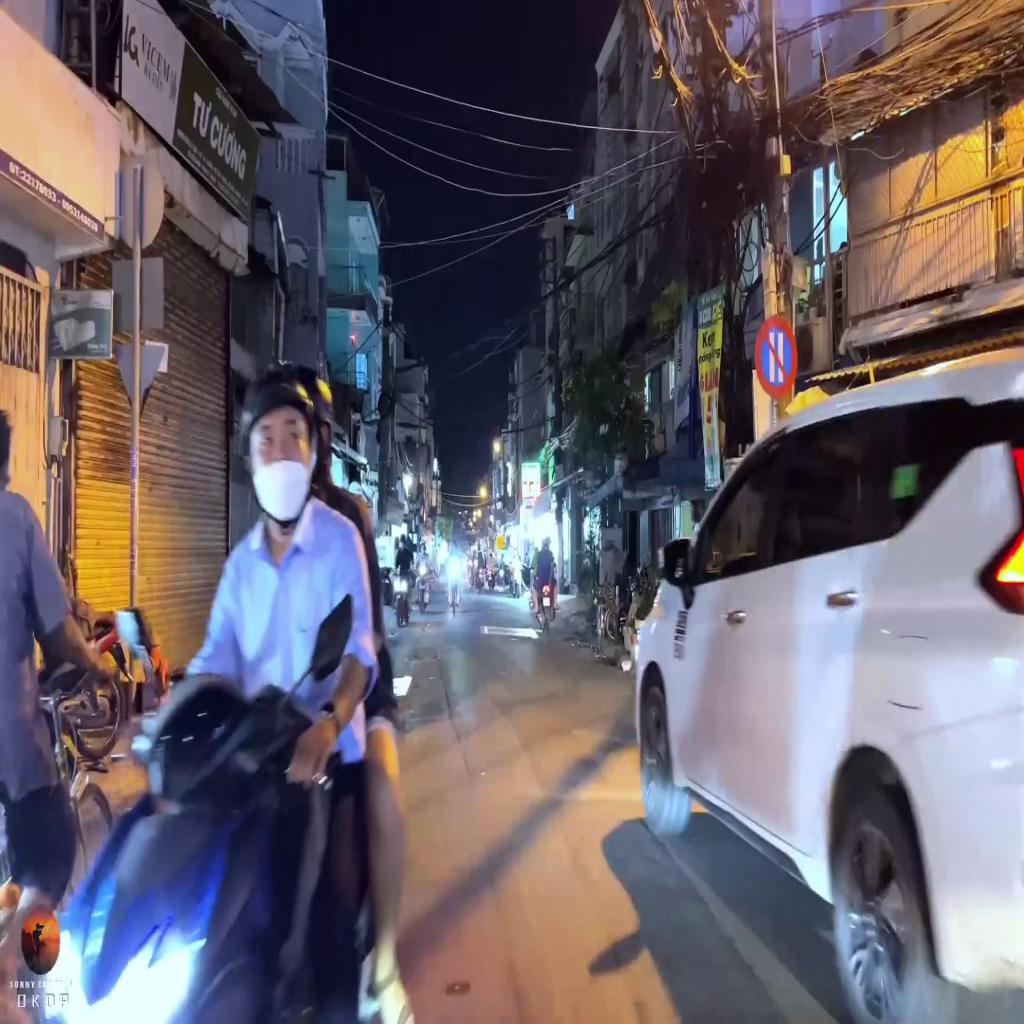cam_do_xe: (754, 315, 800, 400)
